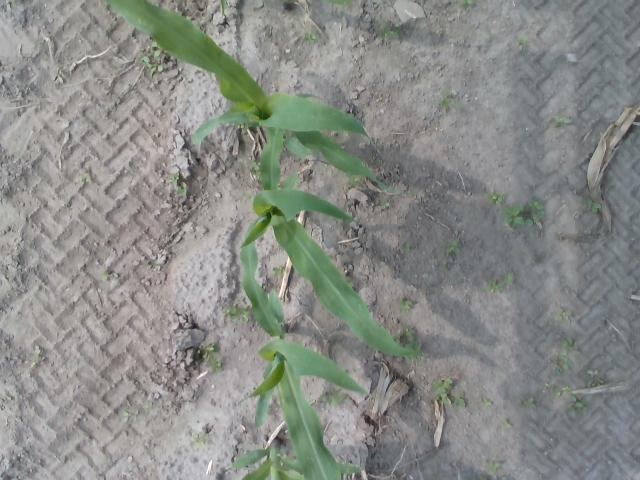Maize: (106, 0, 386, 191), (242, 127, 422, 356), (238, 241, 370, 479), (222, 438, 362, 480)
Weeds: (508, 205, 528, 229), (431, 378, 452, 398), (144, 50, 162, 70), (530, 200, 546, 222), (228, 306, 250, 322), (170, 172, 184, 194), (556, 112, 572, 128), (401, 325, 417, 341), (385, 22, 399, 40), (198, 343, 215, 357), (563, 340, 579, 354), (582, 200, 600, 212), (553, 358, 568, 372), (305, 32, 317, 49), (520, 398, 537, 408), (439, 98, 451, 112), (556, 310, 570, 322), (452, 398, 468, 408), (491, 274, 502, 288), (504, 272, 515, 286), (491, 191, 501, 205), (404, 299, 416, 310), (102, 272, 118, 280), (568, 395, 582, 404), (446, 244, 456, 256), (462, 1, 476, 9), (273, 268, 285, 276), (482, 399, 492, 408), (517, 39, 525, 50), (505, 420, 515, 428), (381, 202, 391, 209), (216, 358, 224, 366)
